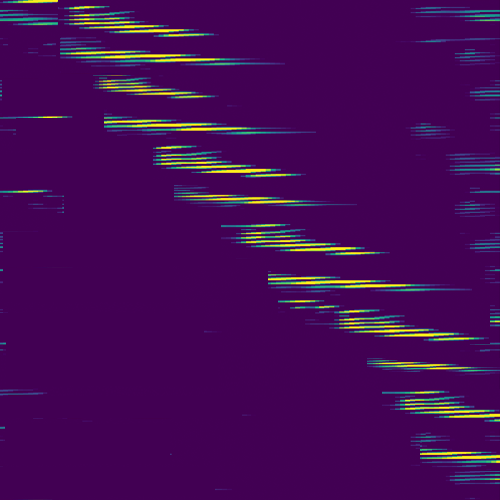semblance: (285, 296, 479, 343), (153, 141, 293, 181), (63, 2, 210, 40), (236, 221, 382, 258), (101, 110, 268, 133), (395, 388, 500, 423), (61, 45, 233, 66), (94, 72, 210, 101), (266, 271, 419, 291), (366, 355, 477, 375), (169, 190, 305, 206), (417, 447, 500, 466)
